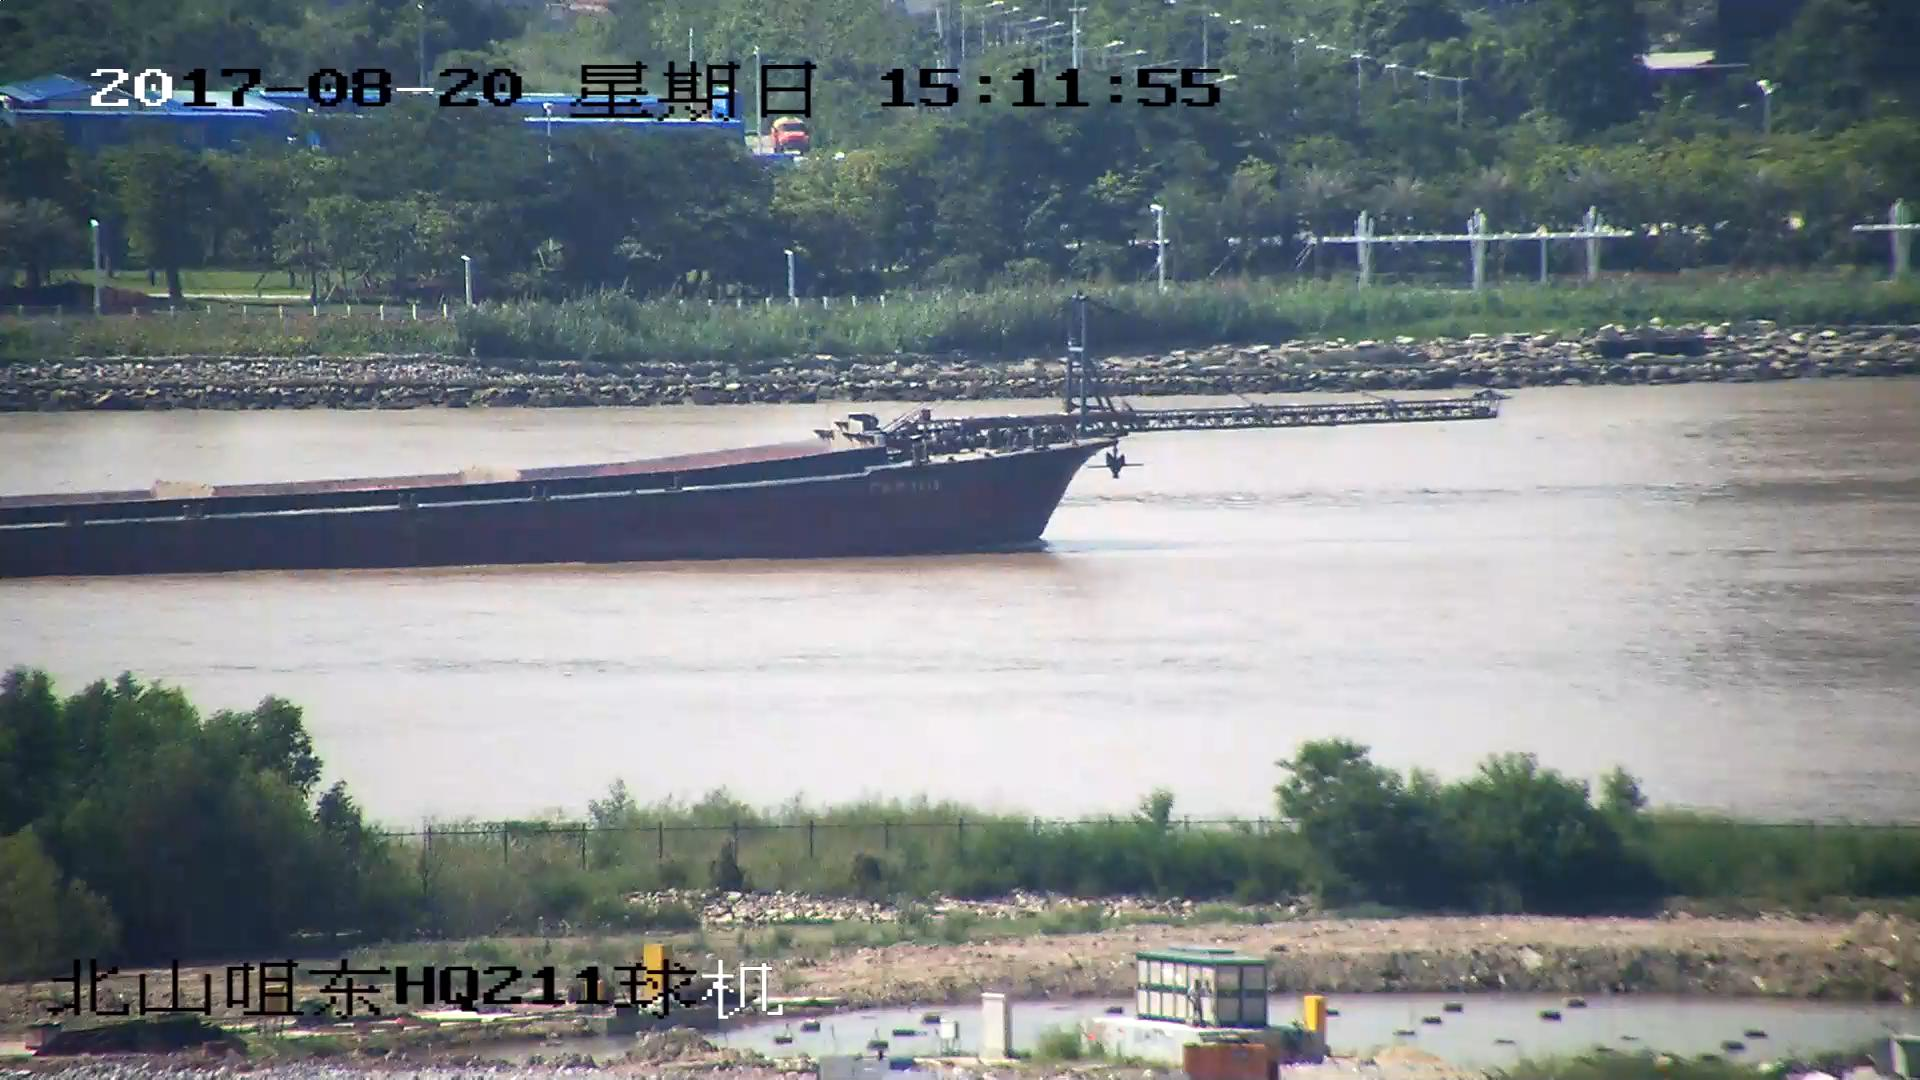bulk cargo carrier: (1, 305, 1488, 579)
